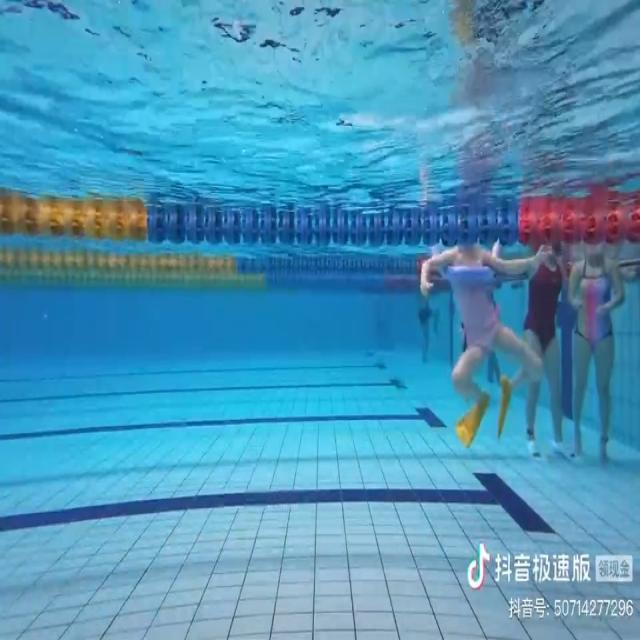Swimming: (417, 238, 545, 448)
